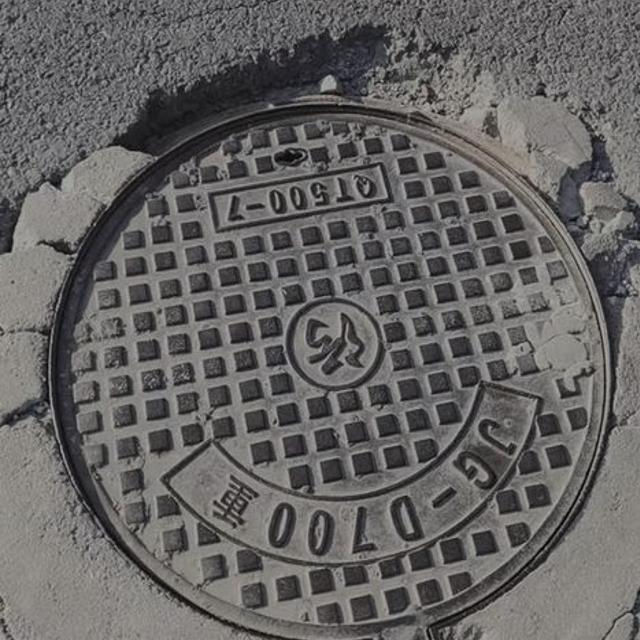circle: (20, 46, 640, 640)
